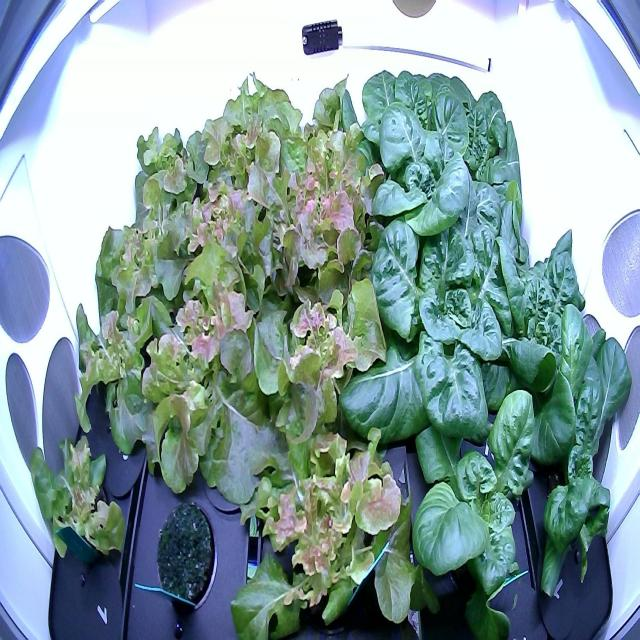pod: (149, 492, 223, 618)
young: (327, 193, 542, 455), (508, 306, 635, 615), (396, 380, 546, 638), (350, 100, 492, 283), (329, 46, 466, 212), (468, 192, 590, 368), (436, 62, 530, 224)
